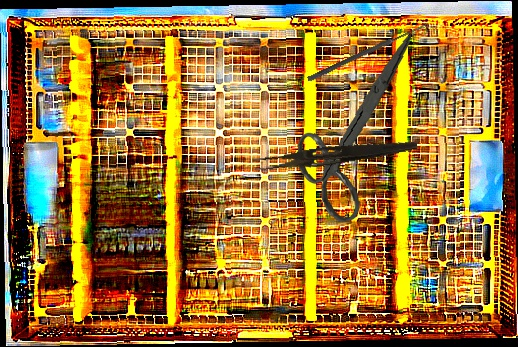Dressing Forceps: (253, 132, 418, 178)
Iris Scissors: (290, 33, 424, 226)
Surgical Spoon: (306, 21, 430, 83)
